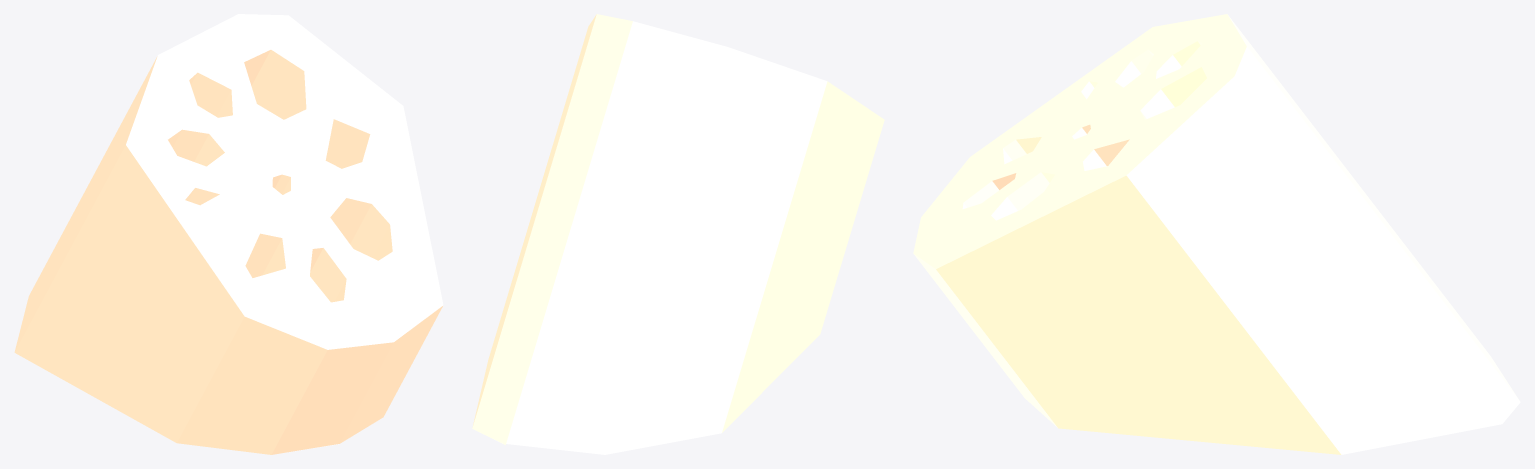
3 renders of one model, left to right at view 1: azimuth 30°, elevation 25°; view 2: azimuth 150°, elevation 25°; view 3: azimuth 270°, elevation 25°, orthographic. The views are drawn at different scales.
Parts seen in each view (by area): view 1: Plane; view 2: Plane; view 3: Plane.
Boxes of the visible parts, box(x1,y1,x2,y2) form: Plane: box(14, 14, 443, 454); Plane: box(472, 14, 884, 454); Plane: box(913, 14, 1520, 454).
Size of the model in its own units: 3.6 by 4.54 by 7.01.
